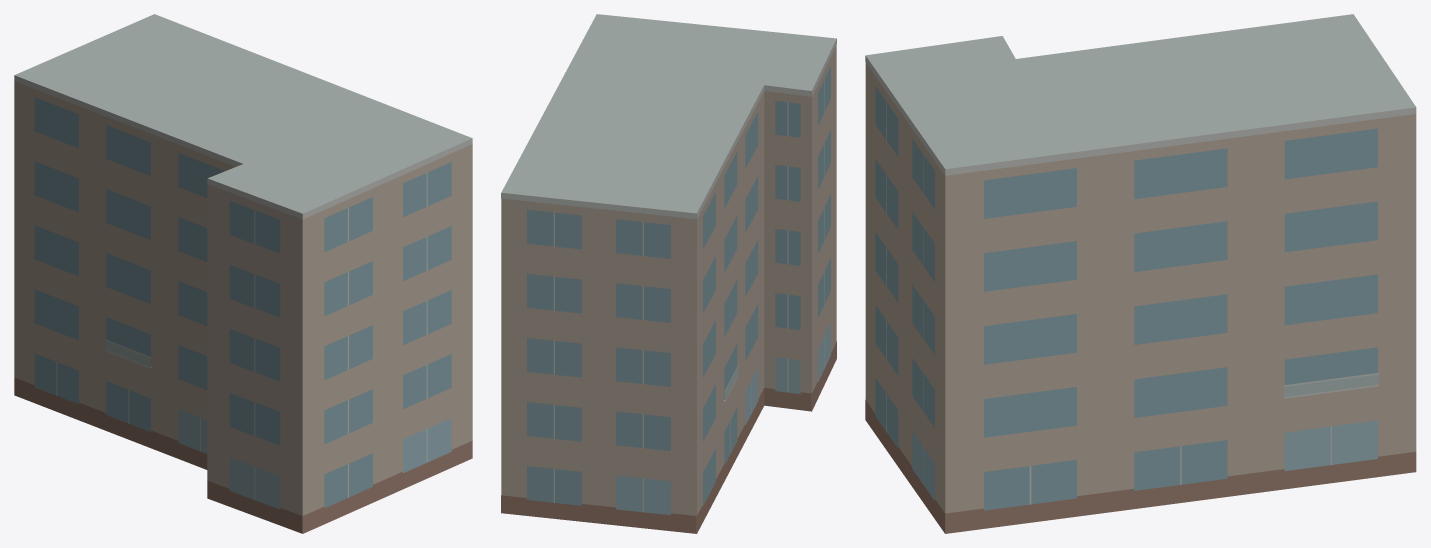
File: survey-upis-32986463.glb
3 views of the same model, side by side, from view 1: azimuth 30°, elevation 25°; view 2: azimuth 150°, elevation 25°; view 3: azimuth 270°, elevation 25° (orthographic). The views are drawn at different scales.
Visible parts, largest first — view 1: survey-upis-32986463.tmp; view 2: survey-upis-32986463.tmp; view 3: survey-upis-32986463.tmp.
Part boxes in pixels (x1=…): survey-upis-32986463.tmp: x1=14, y1=14, x2=472, y2=533; survey-upis-32986463.tmp: x1=501, y1=14, x2=836, y2=533; survey-upis-32986463.tmp: x1=865, y1=14, x2=1416, y2=533.
Bounding box in the file's own units: 12.38 × 13.55 × 18.56.
